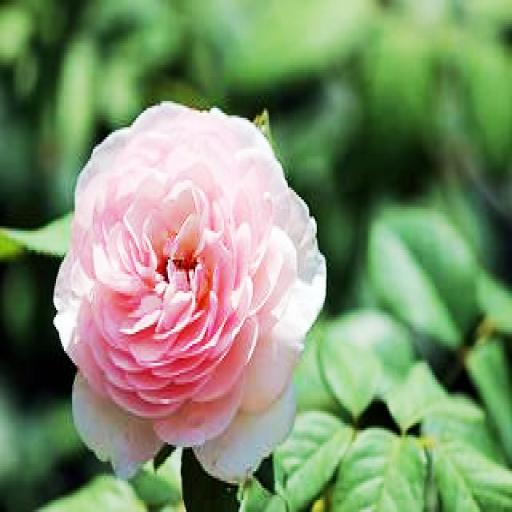rose: (53, 101, 325, 478)
